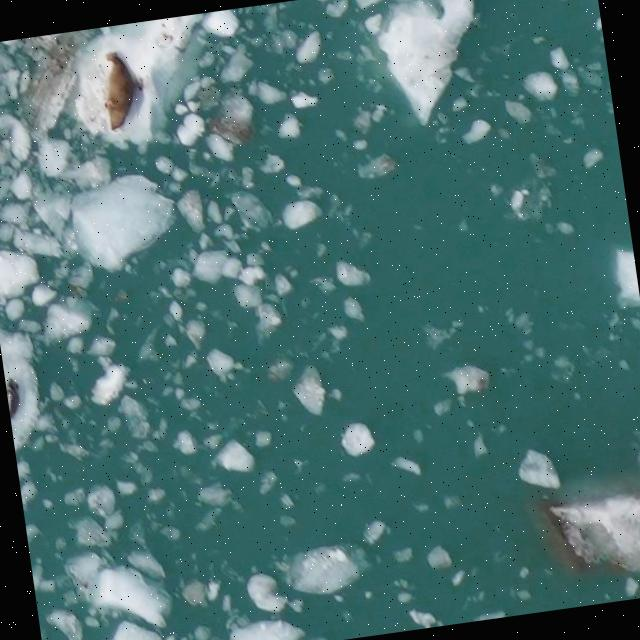seal: (103, 50, 135, 131), (5, 377, 20, 418)
